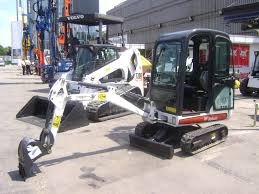excavator: (20, 33, 234, 180)
